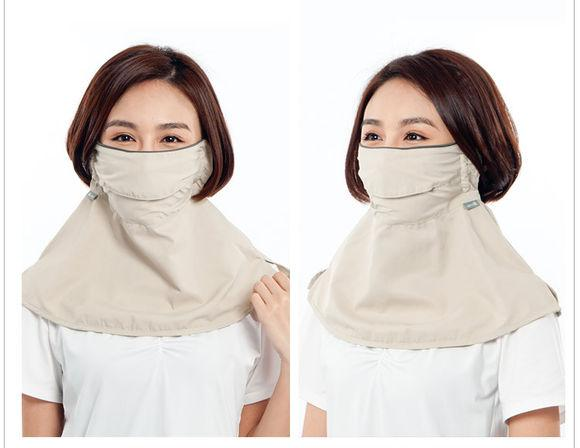OK: (94, 113, 200, 219), (350, 112, 453, 215)
